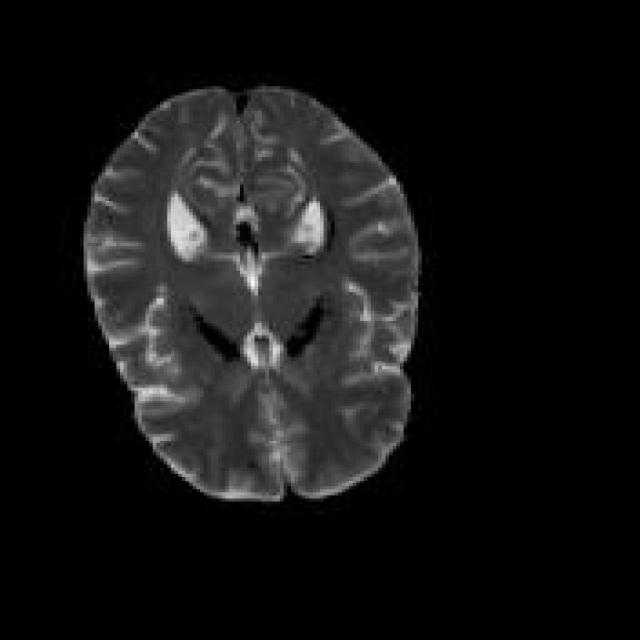CONTROL: (80, 80, 422, 505)
